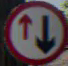Two way: (7, 5, 60, 56)
